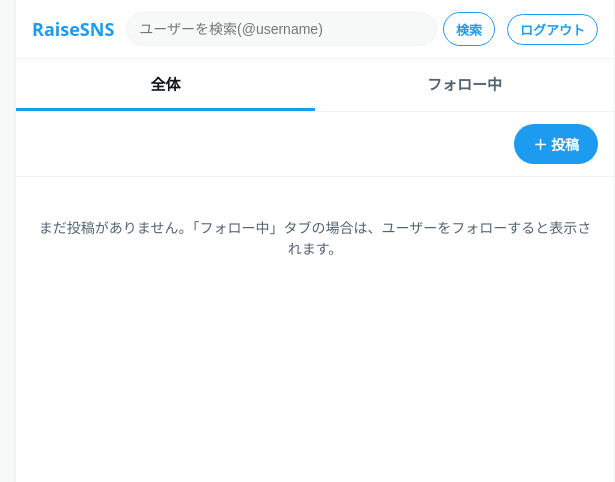
Test case: TimelinePage › toggles the create form when the post button is clicked
Expected: the button "全体" is shown, [16,59,315,111]
Expected: the field with placeholder "今なにしてる?" is not shown
Click the button "＋ 投稿". click: [556, 144]
box: [514,124,598,164]
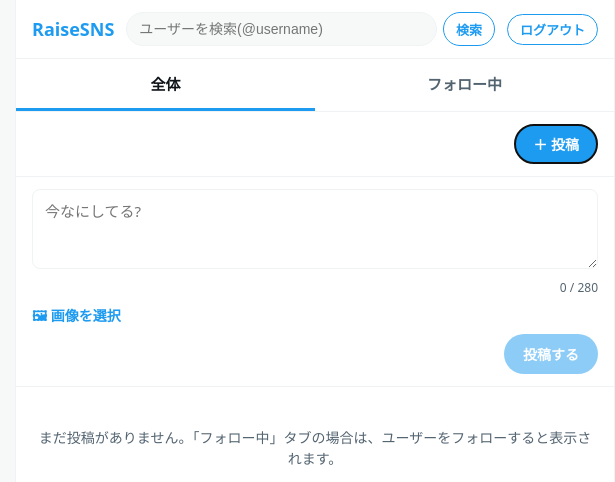
Now the text box with placeholder "今なにしてる?" is shown, box [32,189,598,269]
